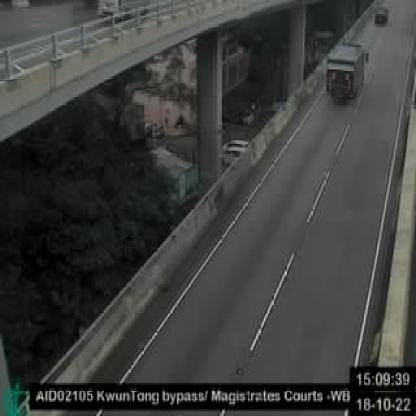Car: (373, 8, 389, 28)
Truck: (324, 43, 368, 105)
